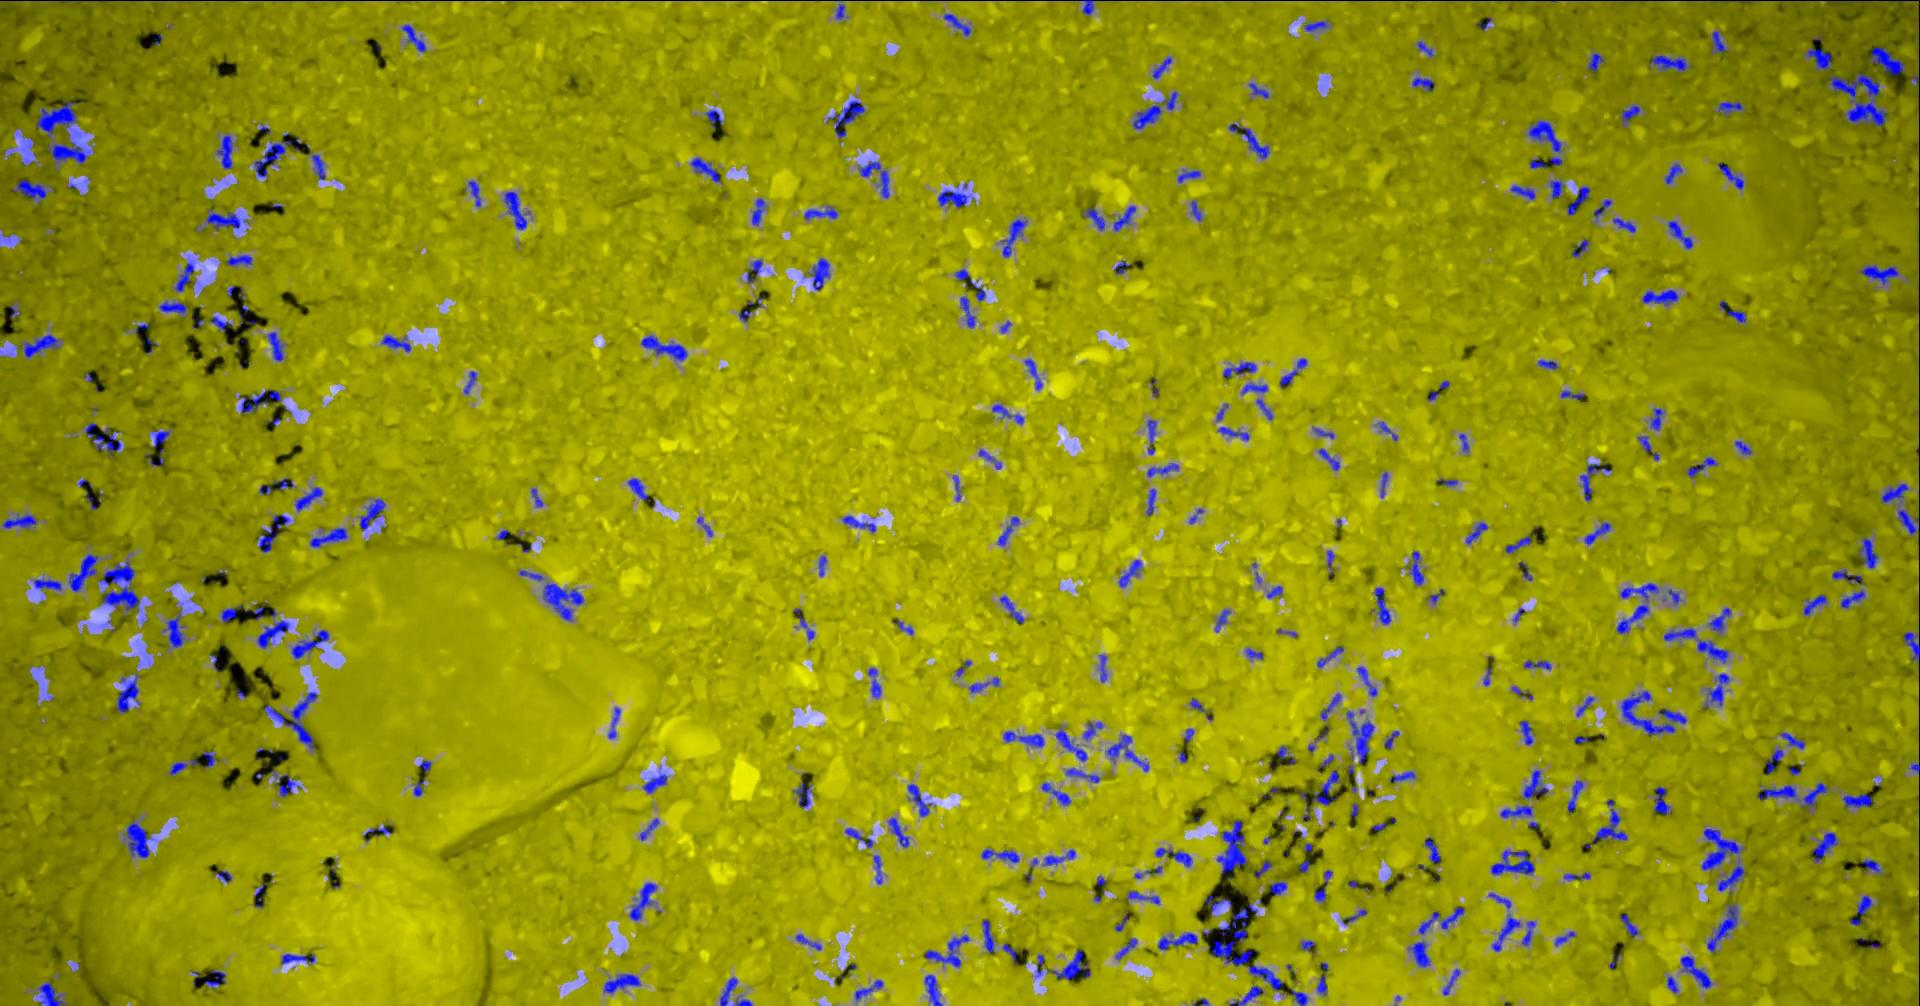ant: (1208, 902, 1257, 965), (263, 691, 317, 748), (1620, 690, 1686, 734), (99, 560, 138, 615), (253, 132, 301, 177), (1617, 582, 1658, 633), (1302, 770, 1338, 821), (1700, 828, 1741, 869), (1217, 819, 1246, 875), (1106, 734, 1148, 771), (1705, 904, 1737, 953), (542, 583, 583, 620), (36, 102, 77, 137), (1346, 710, 1374, 763), (924, 934, 969, 967), (825, 100, 863, 138), (1228, 123, 1269, 159), (1592, 799, 1625, 842), (257, 514, 290, 553), (1050, 949, 1090, 981), (1578, 464, 1611, 500), (640, 334, 686, 359), (1490, 848, 1534, 874), (858, 160, 889, 197), (1528, 119, 1561, 152), (85, 422, 119, 453), (1867, 46, 1903, 75), (69, 554, 98, 591), (291, 629, 328, 658), (1491, 915, 1520, 951), (629, 882, 657, 920), (954, 268, 985, 301), (124, 821, 152, 857), (1680, 955, 1710, 988), (47, 141, 93, 163), (237, 389, 281, 412), (1001, 218, 1026, 257), (1055, 729, 1087, 760), (204, 208, 248, 230), (257, 620, 290, 648), (22, 333, 60, 357), (116, 674, 140, 713), (1703, 673, 1730, 708), (503, 191, 526, 229), (1248, 964, 1283, 989), (145, 431, 169, 466), (1811, 832, 1837, 862), (1859, 264, 1898, 285), (907, 782, 931, 815), (11, 179, 46, 202), (1279, 358, 1305, 387), (1717, 865, 1743, 894), (359, 498, 385, 528), (309, 527, 347, 547), (1697, 639, 1728, 663), (36, 981, 67, 1005), (603, 973, 640, 993), (1650, 55, 1691, 72), (627, 478, 654, 506), (1801, 782, 1829, 809), (1131, 104, 1161, 130), (163, 612, 184, 647), (690, 158, 720, 182), (1717, 163, 1743, 189), (1566, 185, 1590, 215), (1523, 768, 1547, 798), (1156, 847, 1192, 866), (1849, 894, 1872, 925), (808, 258, 829, 290), (937, 189, 973, 208), (1667, 220, 1691, 248), (295, 486, 323, 511), (999, 594, 1023, 622), (1157, 932, 1197, 949), (1229, 984, 1262, 1005), (1041, 782, 1070, 805), (174, 260, 196, 291), (1686, 456, 1717, 478), (792, 608, 814, 639), (1003, 730, 1043, 747), (401, 24, 425, 51), (1117, 559, 1142, 586), (1804, 47, 1832, 70), (997, 516, 1018, 545), (1857, 537, 1878, 567), (990, 404, 1023, 423), (1356, 666, 1377, 696), (888, 817, 908, 847), (943, 13, 970, 36), (1112, 205, 1135, 231), (1719, 300, 1746, 323), (274, 774, 301, 796), (1374, 587, 1390, 624), (1023, 358, 1043, 390), (1583, 522, 1610, 544), (1316, 647, 1343, 667), (1321, 692, 1341, 720), (844, 827, 872, 847), (855, 979, 883, 1000), (1222, 361, 1256, 377), (841, 514, 875, 531), (1641, 290, 1677, 305), (1440, 906, 1464, 929), (1708, 607, 1730, 633), (1407, 941, 1429, 967), (216, 135, 232, 168), (1043, 848, 1076, 865), (1566, 780, 1583, 810), (924, 974, 942, 1005), (1881, 483, 1909, 502), (1757, 785, 1796, 799), (1831, 568, 1863, 584), (1902, 631, 1919, 663), (1081, 207, 1103, 230), (1897, 509, 1919, 533), (982, 848, 1018, 862), (1204, 894, 1230, 913), (959, 296, 975, 326), (3, 513, 36, 528), (1065, 767, 1098, 782), (1653, 786, 1671, 814), (719, 977, 737, 1005), (1115, 937, 1137, 960), (1840, 589, 1865, 608), (267, 332, 283, 361), (381, 334, 410, 351), (803, 205, 837, 218), (1503, 535, 1530, 553), (1443, 968, 1460, 995), (1317, 448, 1338, 470), (1465, 521, 1487, 542), (1803, 594, 1826, 615), (969, 677, 999, 692), (1418, 911, 1439, 934), (1145, 462, 1178, 476), (1410, 551, 1423, 584), (363, 824, 391, 841), (643, 774, 667, 793), (794, 781, 811, 807), (1218, 426, 1250, 439), (168, 760, 199, 774), (795, 934, 822, 950), (1150, 56, 1171, 77), (1427, 380, 1449, 400), (978, 448, 1001, 467), (1663, 627, 1697, 640), (1766, 748, 1783, 774), (1423, 837, 1440, 862), (1126, 890, 1159, 903), (639, 818, 658, 840), (1619, 915, 1638, 936), (1214, 608, 1230, 633), (1780, 732, 1804, 748), (1843, 793, 1870, 807), (1717, 100, 1742, 116), (1663, 163, 1683, 183), (1377, 420, 1397, 439), (867, 667, 880, 697), (607, 708, 620, 738), (220, 605, 241, 622), (203, 969, 225, 987), (982, 920, 993, 953), (281, 953, 314, 964), (1316, 962, 1327, 995), (750, 198, 764, 225), (1510, 184, 1534, 199), (1611, 217, 1636, 232), (1500, 805, 1531, 817), (1910, 72, 1919, 113), (1256, 398, 1272, 419), (1488, 892, 1510, 908), (311, 154, 325, 179), (1521, 920, 1535, 945), (1411, 76, 1434, 91), (1145, 419, 1156, 453), (1592, 199, 1611, 217), (159, 300, 185, 312), (1083, 721, 1102, 739), (1276, 746, 1295, 763), (1342, 909, 1366, 923), (1576, 696, 1592, 716), (1710, 30, 1726, 52), (210, 316, 231, 332), (467, 180, 480, 206), (1389, 770, 1415, 782), (1622, 104, 1639, 122), (1571, 239, 1589, 257), (1161, 91, 1177, 111), (696, 517, 712, 536), (1248, 83, 1269, 98), (1002, 942, 1017, 963), (463, 370, 476, 394), (1650, 406, 1662, 431), (1519, 720, 1531, 744), (253, 883, 265, 907), (1241, 382, 1267, 394), (705, 109, 721, 127), (1587, 52, 1603, 71), (1549, 179, 1564, 198), (226, 254, 251, 265), (1384, 730, 1399, 749), (33, 579, 61, 589), (1523, 659, 1550, 669), (872, 855, 883, 883), (1554, 931, 1575, 945), (1255, 860, 1271, 876), (1145, 488, 1156, 514), (530, 488, 543, 507), (1517, 561, 1531, 580), (1177, 170, 1200, 182), (519, 569, 542, 580), (1417, 41, 1434, 56), (202, 749, 217, 766), (1290, 989, 1307, 1005), (1862, 859, 1879, 873), (1269, 882, 1286, 895), (1303, 20, 1327, 30), (1326, 550, 1335, 577), (1190, 199, 1201, 220), (1637, 436, 1651, 452), (1735, 439, 1751, 453), (1667, 588, 1681, 605), (274, 478, 293, 489), (1559, 390, 1583, 399), (1081, 0, 1095, 15), (1098, 654, 1106, 682), (749, 259, 762, 276), (1112, 260, 1129, 273), (1266, 586, 1283, 598), (1537, 359, 1557, 370), (413, 779, 424, 796), (1563, 873, 1590, 880), (1458, 433, 1468, 452), (1244, 648, 1263, 658), (215, 870, 231, 882), (1666, 976, 1677, 992), (836, 0, 846, 18), (1436, 478, 1457, 486), (1529, 158, 1545, 168), (1036, 954, 1044, 976), (1380, 471, 1387, 497), (1300, 940, 1314, 951), (818, 555, 825, 575), (1314, 888, 1324, 901), (1825, 0, 1916, 1), (50, 0, 114, 1)
